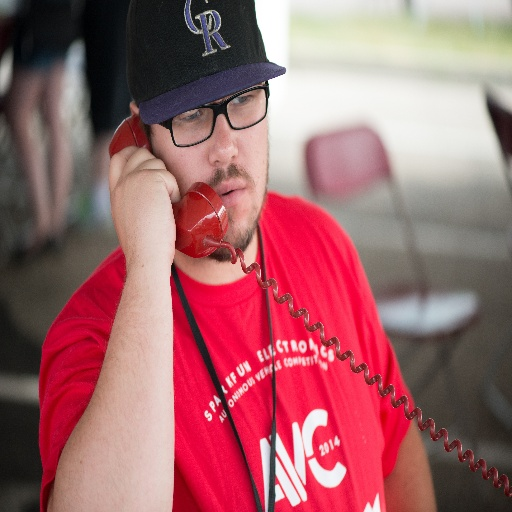hand: (104, 130, 182, 274)
